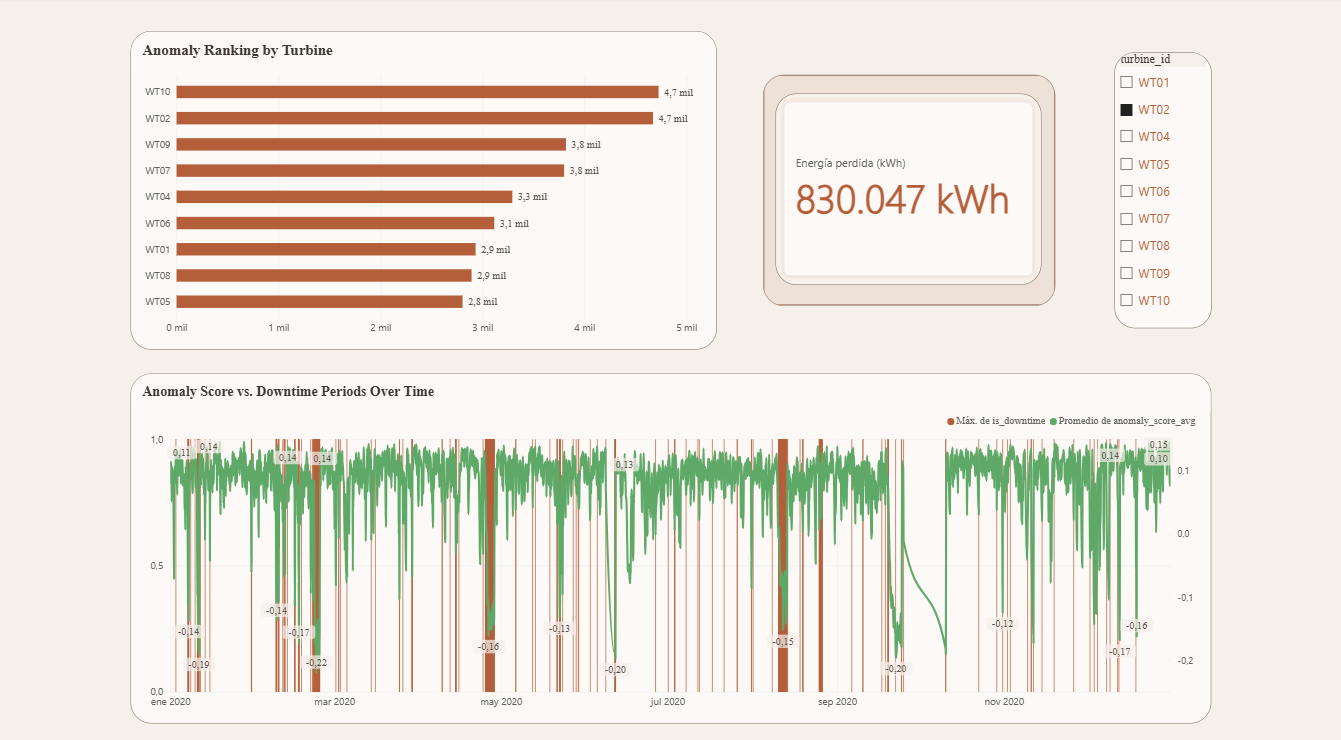

Layout of this report page (visuals, bound fields, positions):
{"tool":"powerbi","page":{"name":"Página 1","canvas":[1920,1080],"ordinal":0},"visuals":[{"type":"shape","box":[1093.6,112.1,417.9,330.4],"z":0},{"type":"clusteredBarChart","title":"Anomaly Ranking by Turbine","fields":{"Category":["turbine_summary.turbine_id"],"Y":["Sum(turbine_summary.anomaly_count)"]},"box":[189.3,50,837.5,455.4],"z":1000},{"type":"cardVisual","fields":{"Data":["turbine_summary.Energía perdida (kWh)"]},"box":[1111.4,138.9,380.4,273.2],"z":2000},{"type":"slicer","fields":{"Values":["anomaly_timeseries.turbine_id"]},"box":[1594.7,80.4,139.3,394.6],"z":3000},{"type":"lineStackedColumnComboChart","title":"Anomaly Score vs. Downtime Periods Over Time","fields":{"Category":["anomaly_timeseries.ts"],"Y":["Max(anomaly_timeseries.is_downtime)"],"Y2":["Avg(anomaly_timeseries.anomaly_score_avg)"]},"box":[189.3,539.3,1544,500],"z":4000}]}

Visuals, with their boxes in screenshot pixels (x1, y1, x2, y2), scaled from the page's 1920x1080 canvas onto the 1341x740 screenshot:
shape: region(764, 77, 1056, 303)
"Anomaly Ranking by Turbine" clusteredBarChart: region(132, 34, 717, 346)
cardVisual - turbine_summary.Energía perdida (kWh): region(776, 95, 1042, 282)
slicer - anomaly_timeseries.turbine_id: region(1114, 55, 1211, 325)
"Anomaly Score vs. Downtime Periods Over Time" lineStackedColumnComboChart: region(132, 370, 1211, 712)
